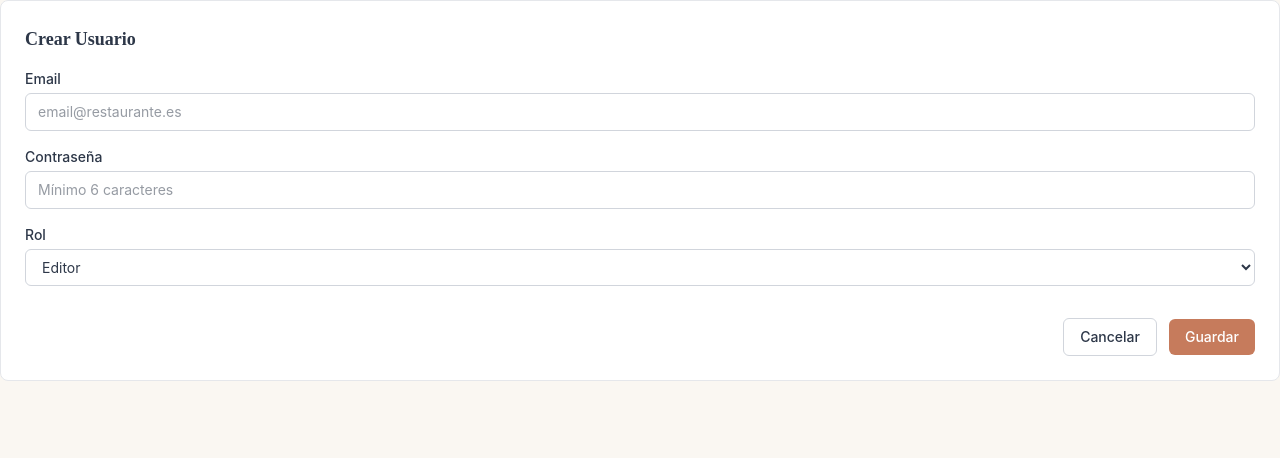
it: UsuarioForm (USR-001, USR-002) › shows validation error when password is too short
Step 1. Type "cook@test.com" into the field with id "email" → (640, 112), box [25,93,1255,131]
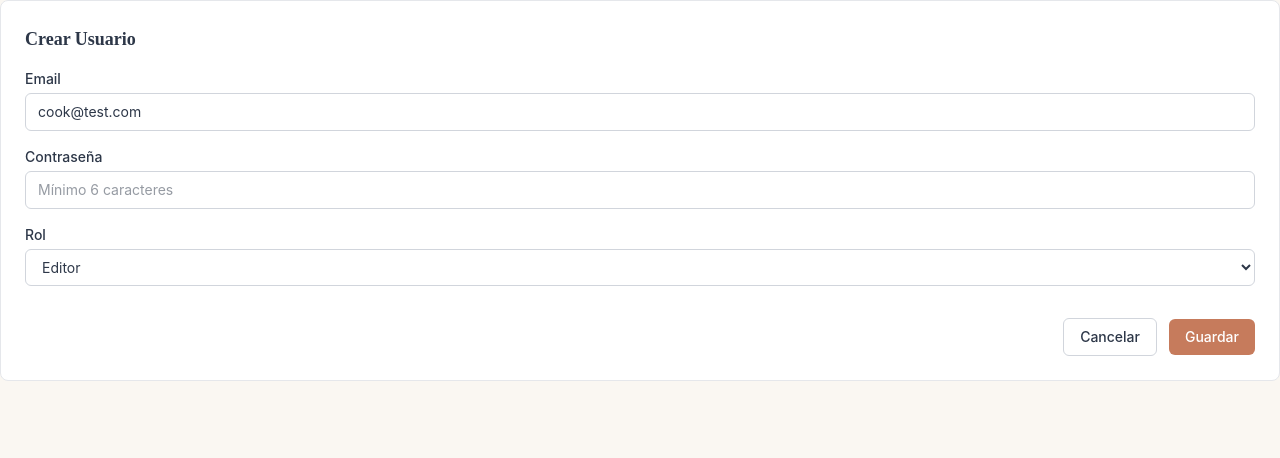
Step 2. Type "12345" into the password field labelled "Contraseña" → (640, 190), box [25,171,1255,209]
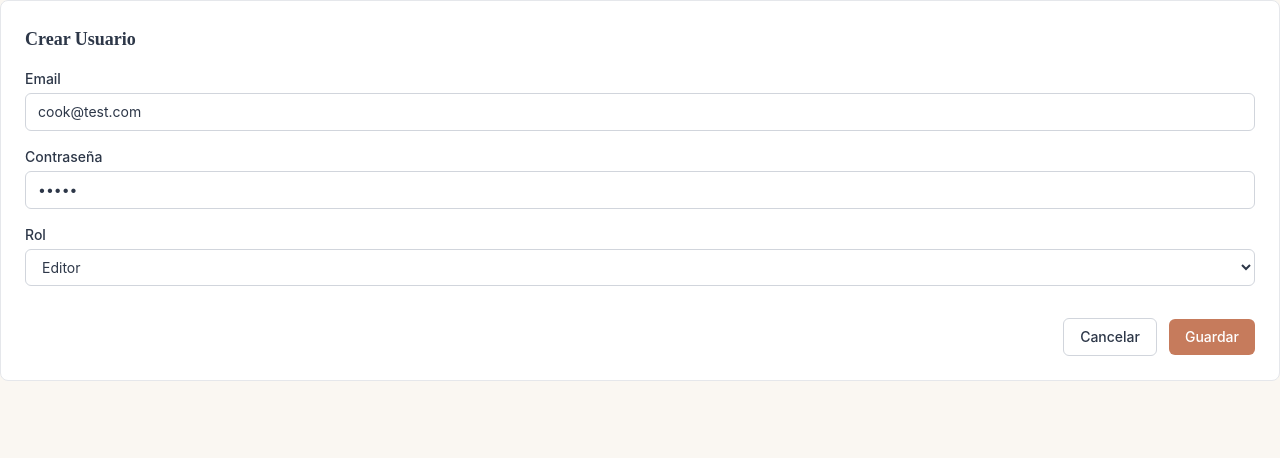
Step 3. Submit the form
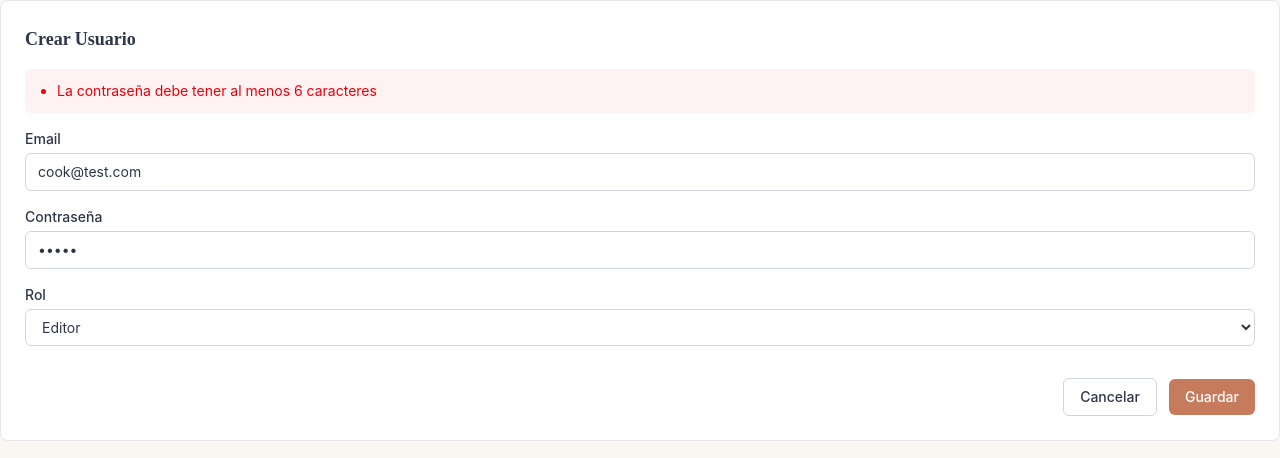
Result: the form shows "6 caracteres" at [57,82,377,99]
